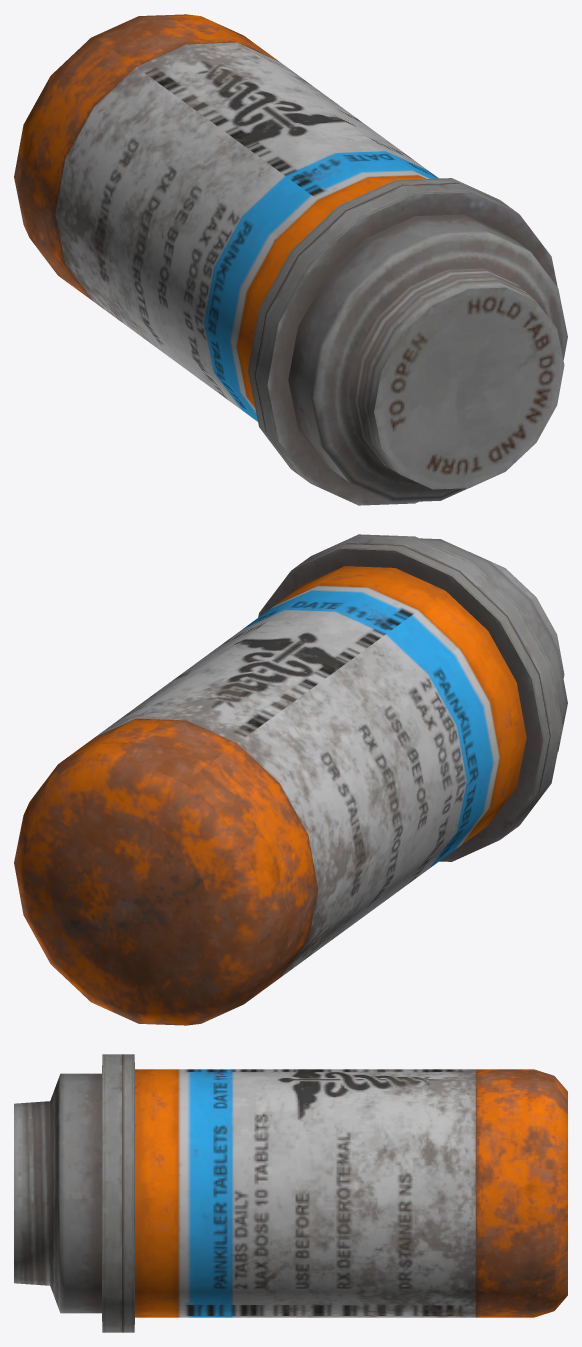
The model's file is pubg_mobile_painkiller.glb.
3 views of the same model, one above another, from view 1: azimuth 30°, elevation 25°; view 2: azimuth 150°, elevation 25°; view 3: azimuth 270°, elevation 25° (orthographic). The views are drawn at different scales.
Visible parts, largest first — view 1: Painkiller; view 2: Painkiller; view 3: Painkiller.
Boxes of the visible parts, x1,y1,x2,y2 form: Painkiller: (14, 14, 567, 505); Painkiller: (14, 534, 567, 1025); Painkiller: (14, 1054, 567, 1332).
Size of the model in its own units: 0.2742 by 0.2742 by 0.5447.
Materials: 1 (1 with a texture image).
